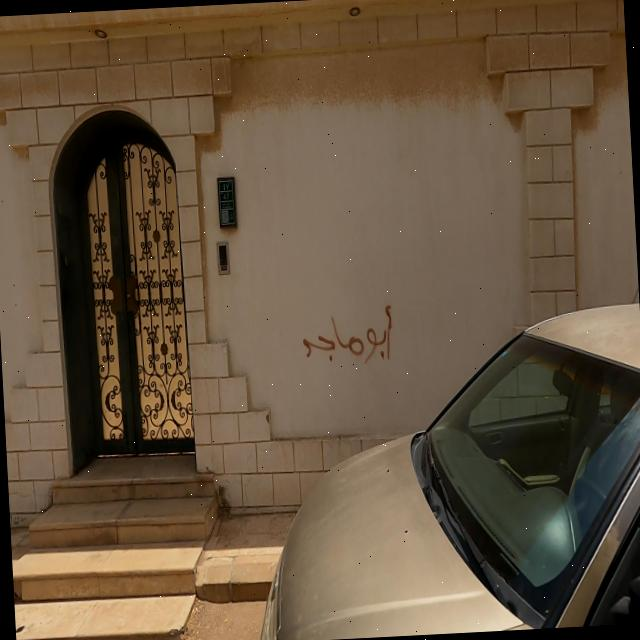Graffiti: (301, 302, 396, 364)
